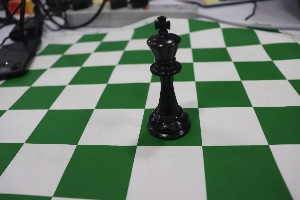black_king: (131, 1, 196, 146)
